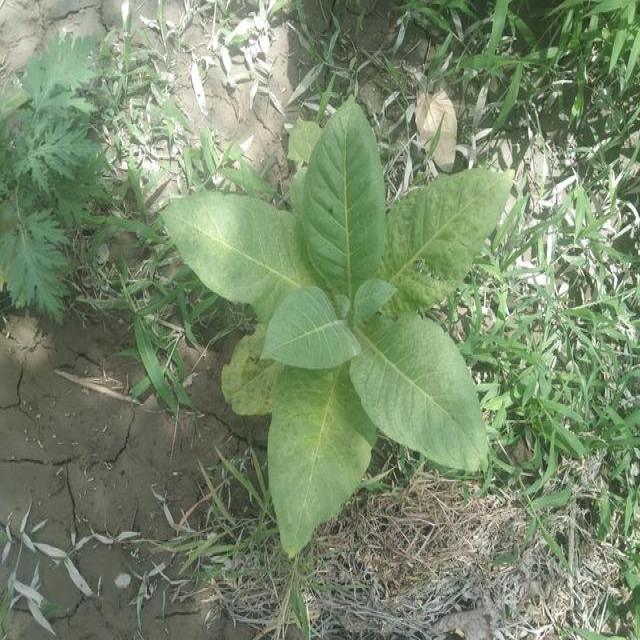crop: (164, 98, 508, 552)
